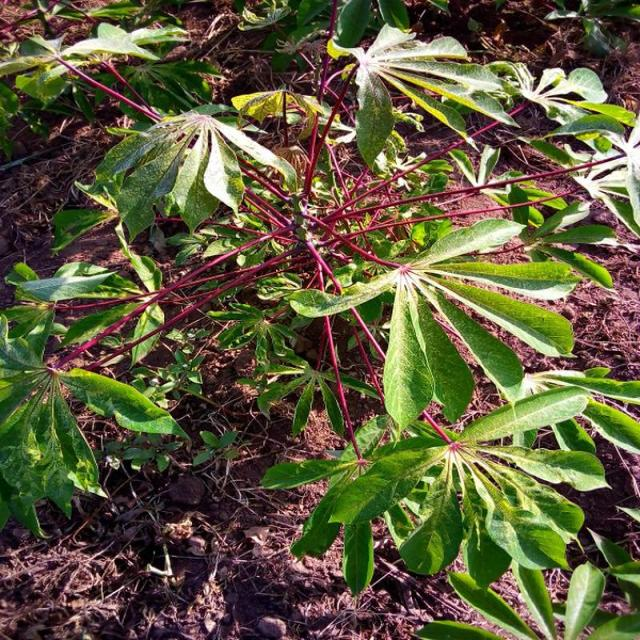cassava leaf: (286, 214, 580, 430), (327, 20, 522, 173), (92, 103, 298, 242)
